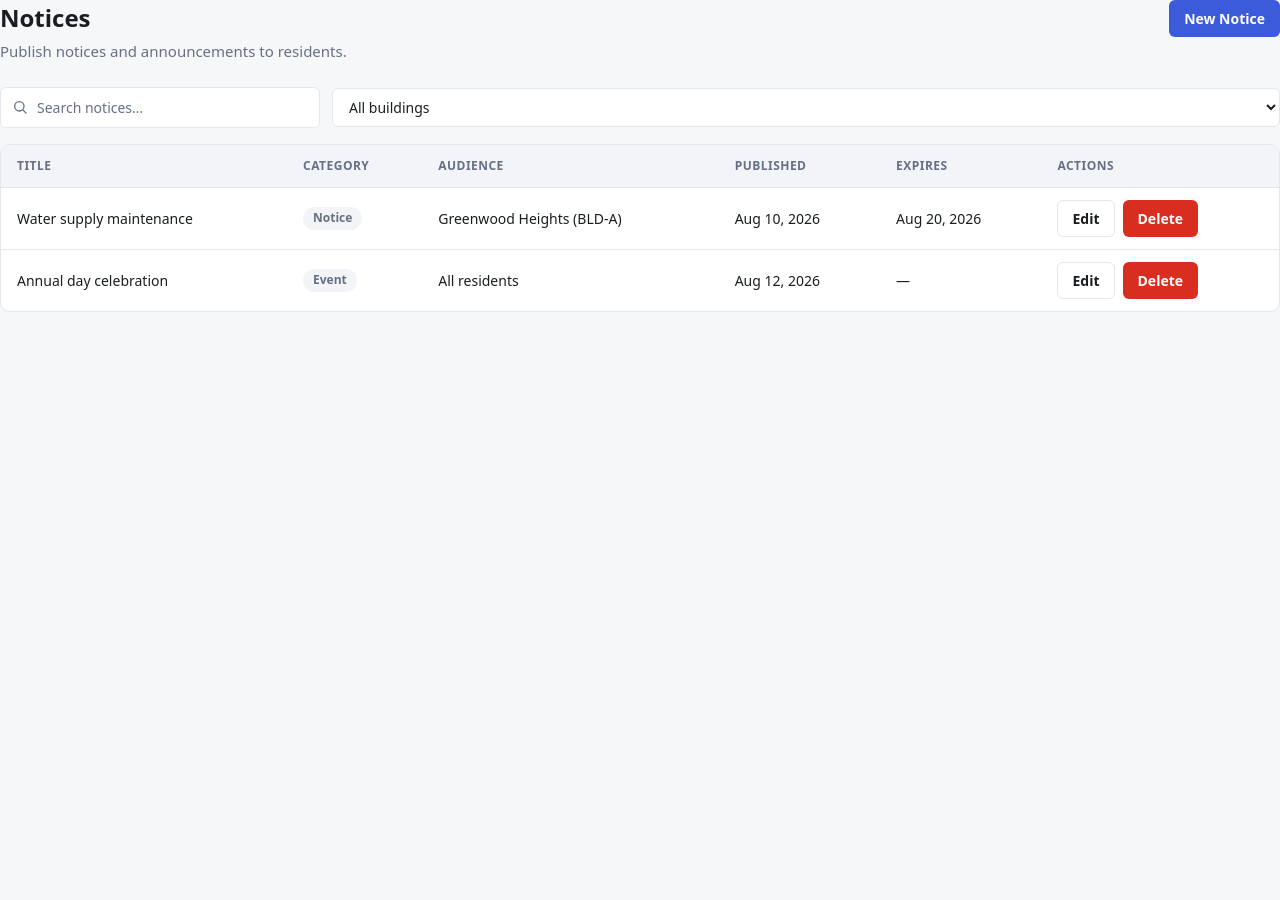
NoticesPage CRUD functionality › validates required Title and Category before creating
Expected: the text "Water supply maintenance" is shown, [1,187,287,249]
Click the button "New Notice" at (1225, 18), box [1169,0,1279,37]
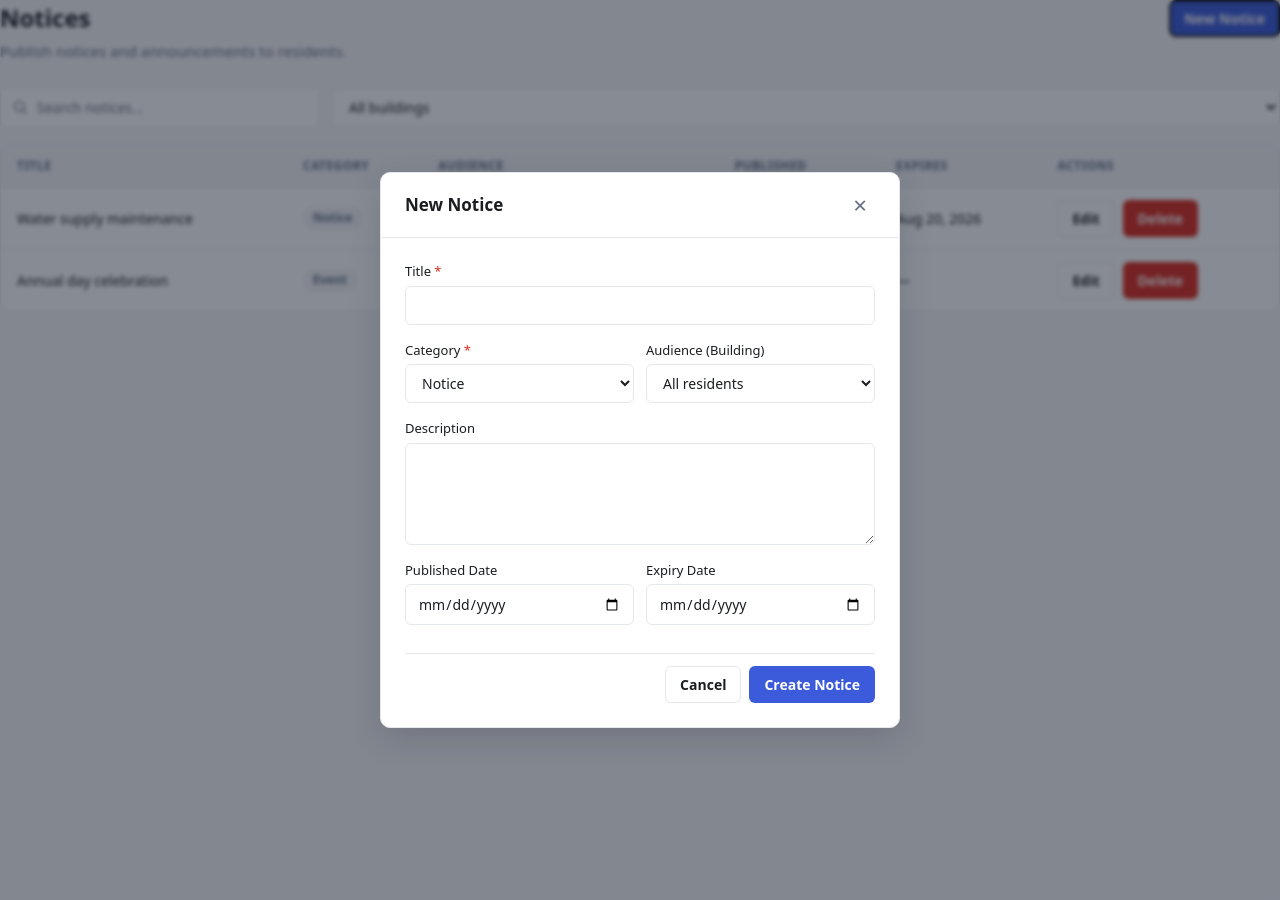
Click the button "Create Notice" at (812, 684), box [749,666,875,703]
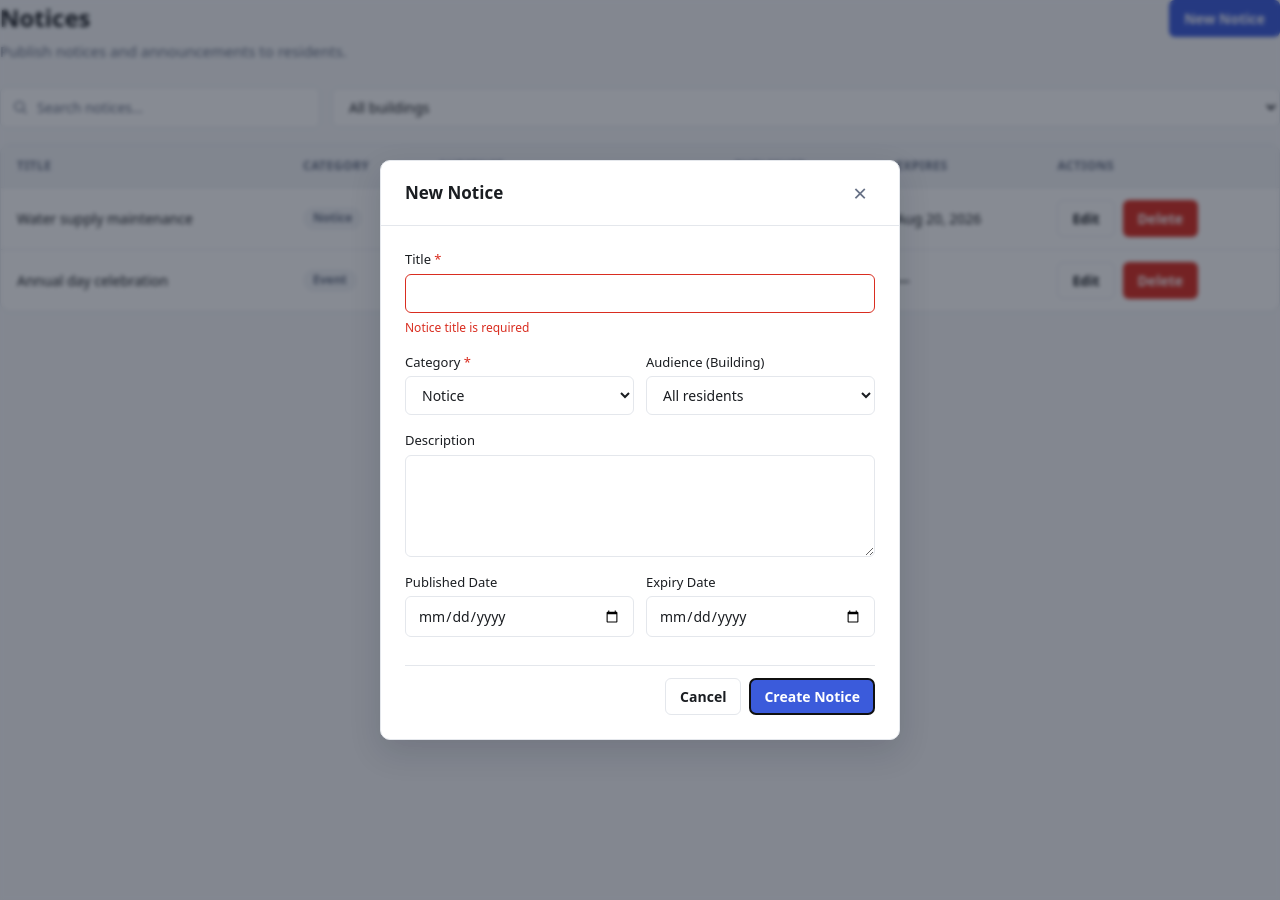
Now the text "Notice title is required" is shown, box [405,318,529,336]
